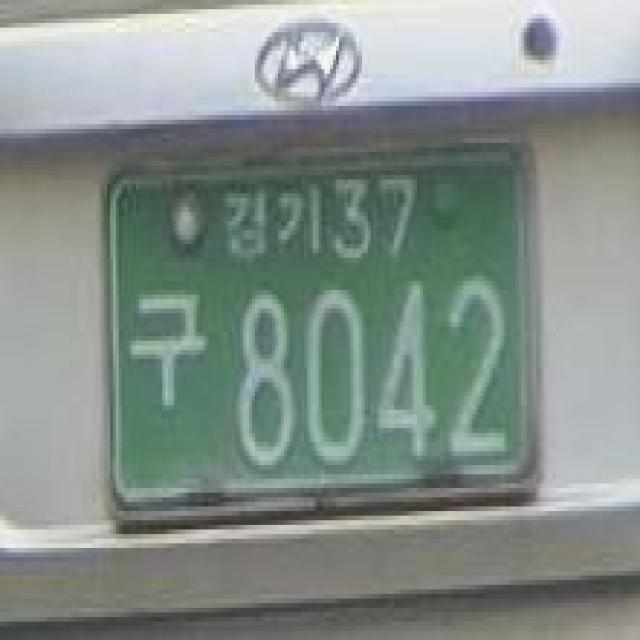illegal_plate: (79, 131, 557, 544)
